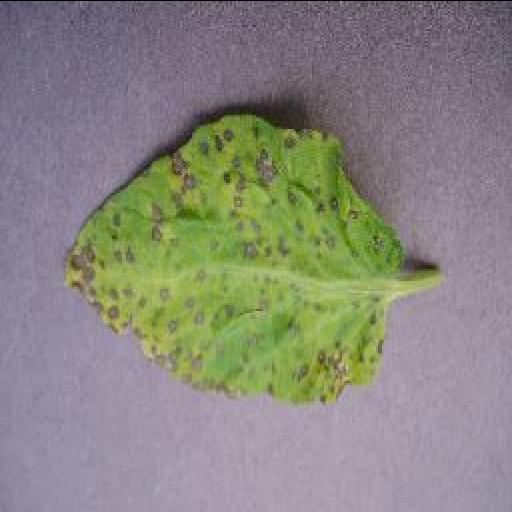disease_tomato: (61, 109, 407, 401)
